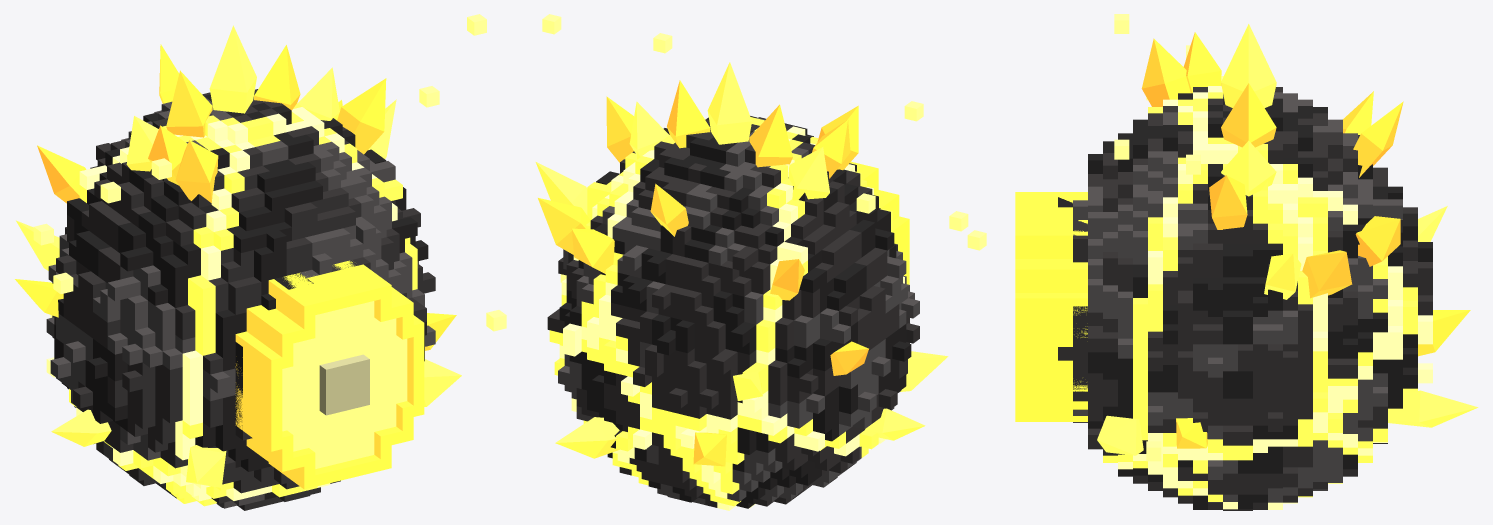
The model's file is VolcanoxBossEgg.fbx.
3 renders of one model, left to right at view 1: azimuth 30°, elevation 25°; view 2: azimuth 150°, elevation 25°; view 3: azimuth 270°, elevation 25°, orthographic. The views are drawn at different scales.
Visible parts, largest first — view 1: Volcanox_Body__Volcanox_Charcoal, Volcanox_Body__Volcanox_CharcoalDark, Volcanox_Body__Volcanox_Ash, Volcanox_Emblem__Volcanox_CoreOutline, Volcanox_Emblem__Volcanox_Core, Volcanox_Crystals__Volcanox_CrystalOrange, Volcanox_Crystals__Volcanox_CrystalYellow, Volcanox_Body__Volcanox_MagmaHot, Volcanox_Body__Volcanox_Magma, Volcanox_Sparks__Volcanox_Spark, Volcanox_Emblem__Volcanox_CoreHot; view 2: Volcanox_Body__Volcanox_Charcoal, Volcanox_Body__Volcanox_CharcoalDark, Volcanox_Body__Volcanox_Ash, Volcanox_Crystals__Volcanox_CrystalOrange, Volcanox_Body__Volcanox_Magma, Volcanox_Crystals__Volcanox_CrystalYellow, Volcanox_Body__Volcanox_MagmaHot, Volcanox_Sparks__Volcanox_Spark, Volcanox_Emblem__Volcanox_CoreOutline; view 3: Volcanox_Body__Volcanox_Charcoal, Volcanox_Body__Volcanox_CharcoalDark, Volcanox_Body__Volcanox_Ash, Volcanox_Body__Volcanox_Magma, Volcanox_Crystals__Volcanox_CrystalOrange, Volcanox_Emblem__Volcanox_CoreOutline, Volcanox_Body__Volcanox_MagmaHot, Volcanox_Crystals__Volcanox_CrystalYellow, Volcanox_Sparks__Volcanox_Spark.
Boxes of the visible parts, x1,y1,x2,y2 form: Volcanox_Body__Volcanox_Charcoal: (54, 89, 435, 510); Volcanox_Body__Volcanox_CharcoalDark: (52, 94, 428, 501); Volcanox_Body__Volcanox_Ash: (46, 96, 435, 508); Volcanox_Emblem__Volcanox_CoreOutline: (235, 260, 424, 489); Volcanox_Emblem__Volcanox_Core: (282, 301, 407, 468); Volcanox_Crystals__Volcanox_CrystalOrange: (15, 44, 456, 350); Volcanox_Crystals__Volcanox_CrystalYellow: (16, 25, 461, 487); Volcanox_Body__Volcanox_MagmaHot: (46, 107, 397, 501); Volcanox_Body__Volcanox_Magma: (59, 103, 417, 506); Volcanox_Sparks__Volcanox_Spark: (33, 14, 506, 331); Volcanox_Emblem__Volcanox_CoreHot: (319, 354, 369, 415); Volcanox_Body__Volcanox_Charcoal: (547, 119, 919, 507); Volcanox_Body__Volcanox_CharcoalDark: (559, 116, 911, 508); Volcanox_Body__Volcanox_Ash: (558, 117, 919, 504); Volcanox_Crystals__Volcanox_CrystalOrange: (538, 80, 868, 466); Volcanox_Body__Volcanox_Magma: (549, 117, 892, 506); Volcanox_Crystals__Volcanox_CrystalYellow: (535, 62, 948, 458); Volcanox_Body__Volcanox_MagmaHot: (559, 118, 904, 510); Volcanox_Sparks__Volcanox_Spark: (542, 14, 986, 282); Volcanox_Emblem__Volcanox_CoreOutline: (850, 161, 909, 284); Volcanox_Body__Volcanox_Charcoal: (1058, 87, 1432, 510); Volcanox_Body__Volcanox_CharcoalDark: (1058, 93, 1432, 509); Volcanox_Body__Volcanox_Ash: (1073, 92, 1402, 502); Volcanox_Body__Volcanox_Magma: (1103, 92, 1417, 501); Volcanox_Crystals__Volcanox_CrystalOrange: (1141, 32, 1470, 448); Volcanox_Emblem__Volcanox_CoreOutline: (1015, 192, 1087, 421); Volcanox_Body__Volcanox_MagmaHot: (1118, 86, 1432, 509); Volcanox_Crystals__Volcanox_CrystalYellow: (1097, 24, 1478, 455); Volcanox_Sparks__Volcanox_Spark: (1114, 14, 1223, 461).
Bounding box in the file's own units: 245 × 238 × 216.
